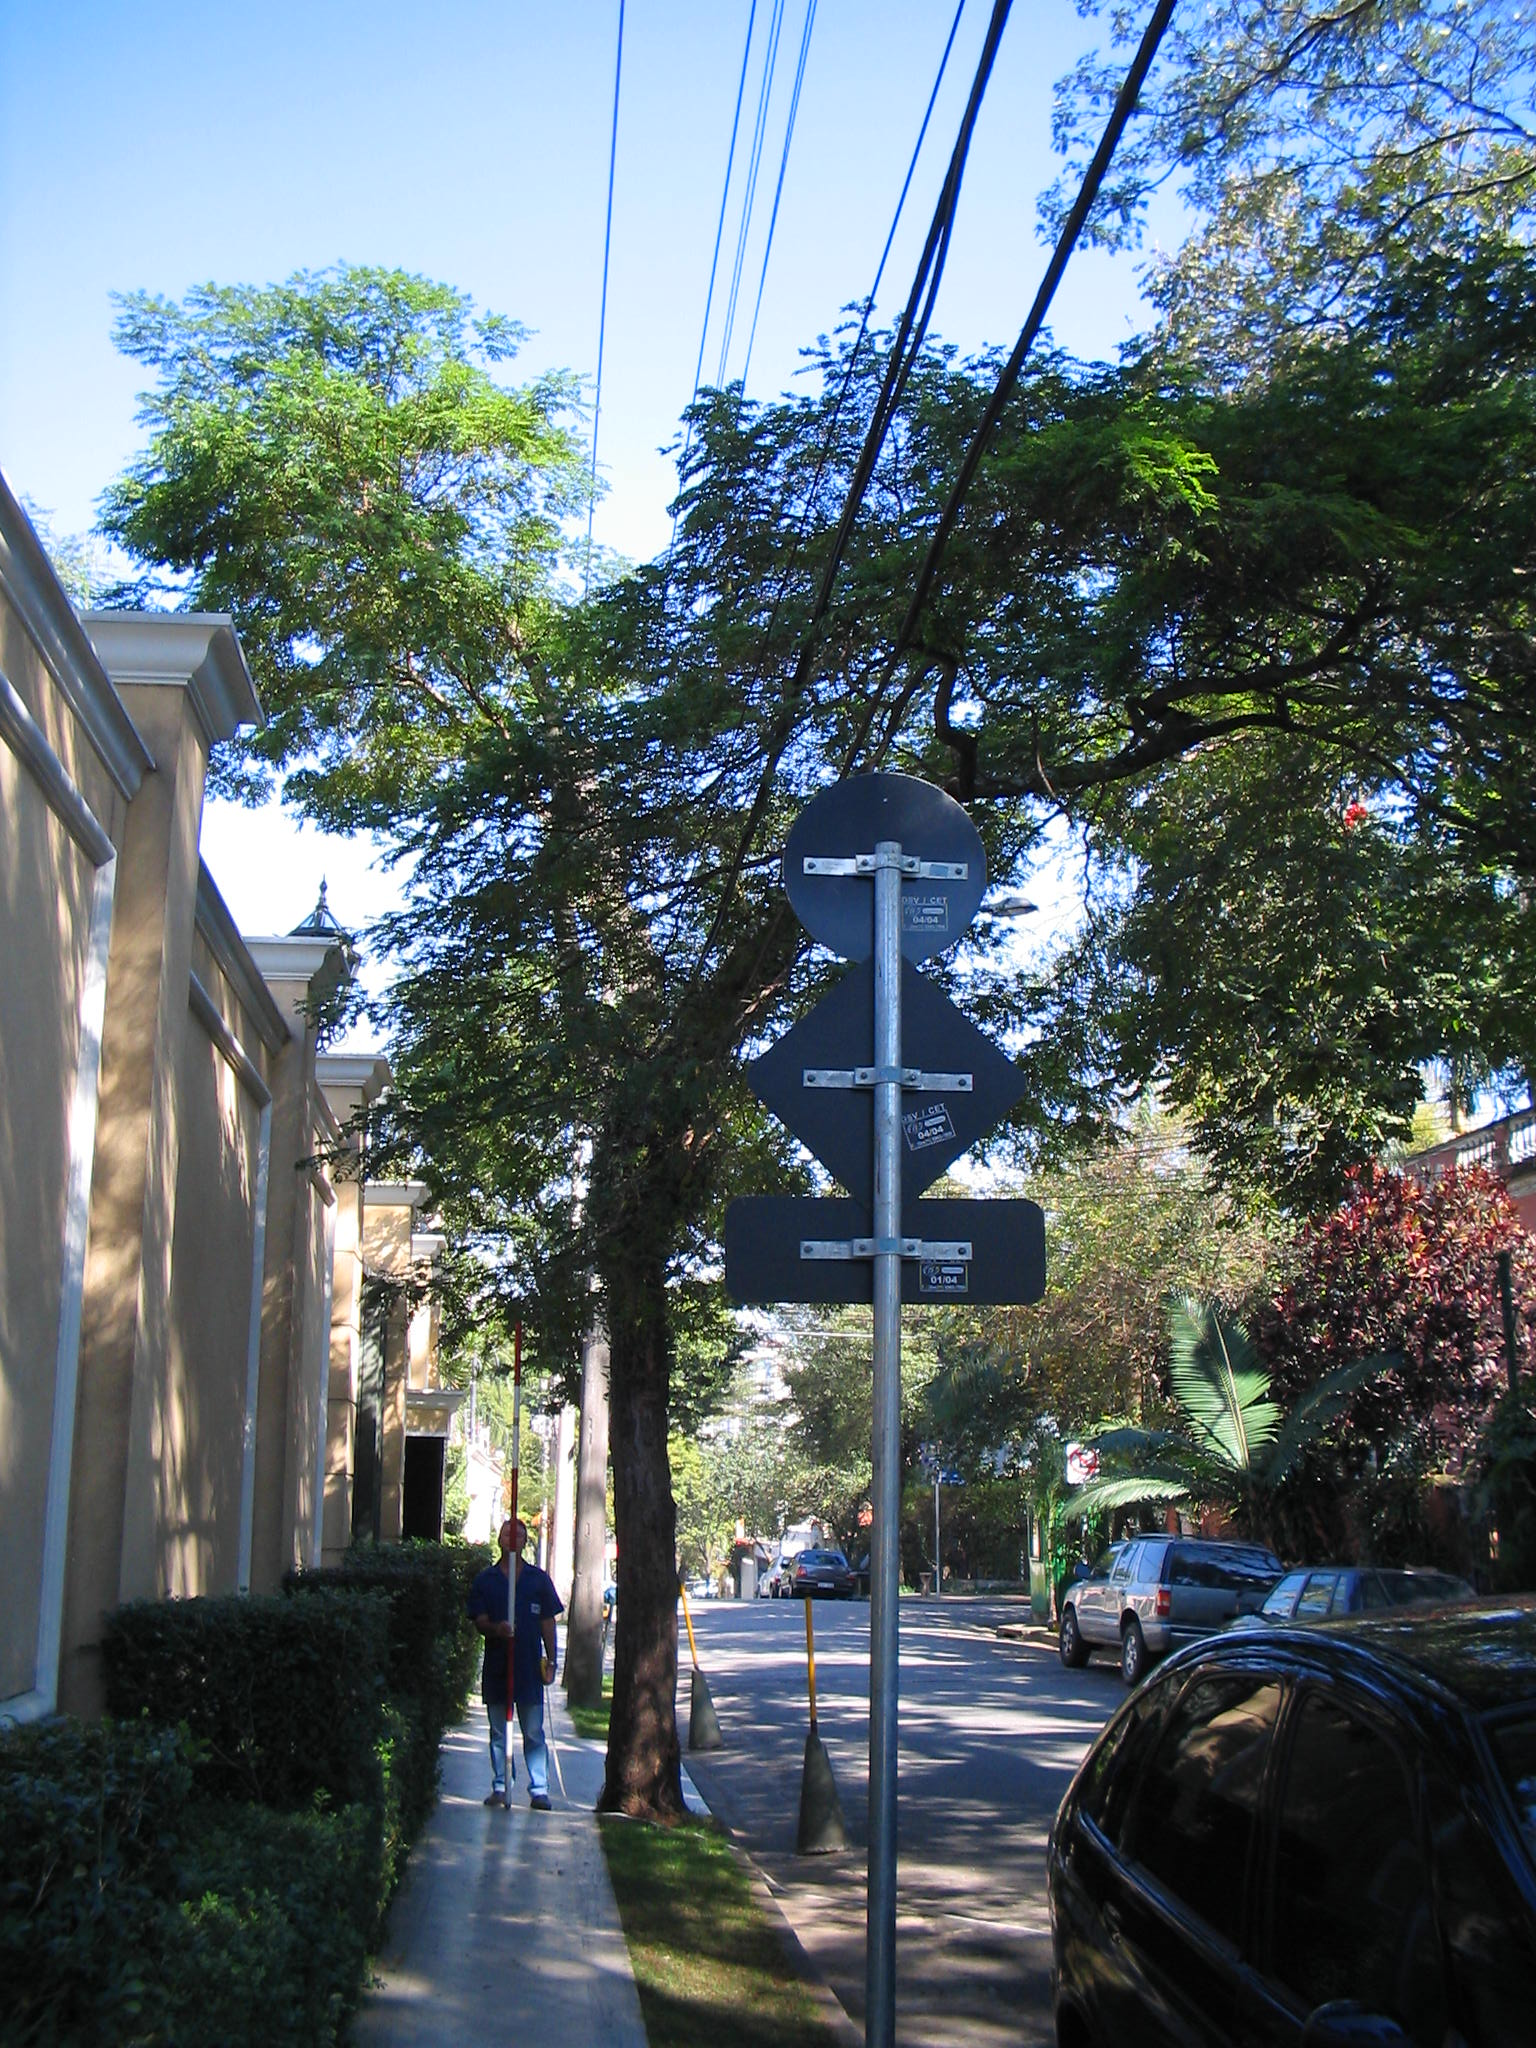stem: (557, 1261, 715, 1825)
stick: (489, 1316, 532, 1816)
tree: (510, 316, 1391, 1825)
